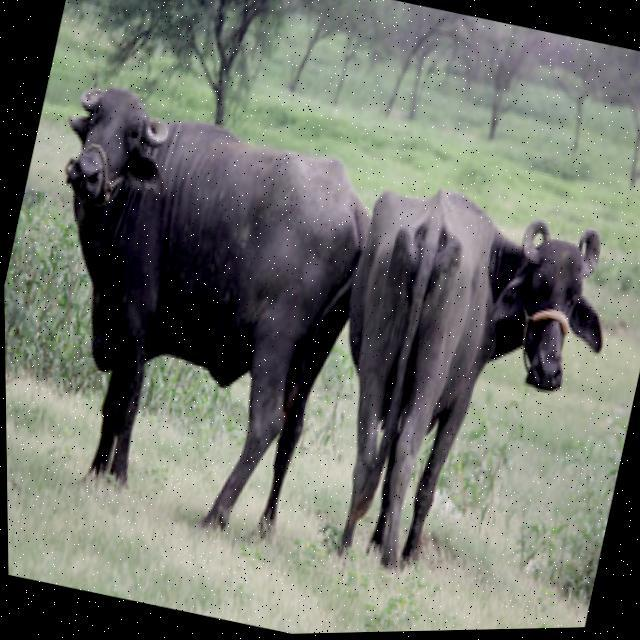Buffalo: (1, 68, 394, 558)
